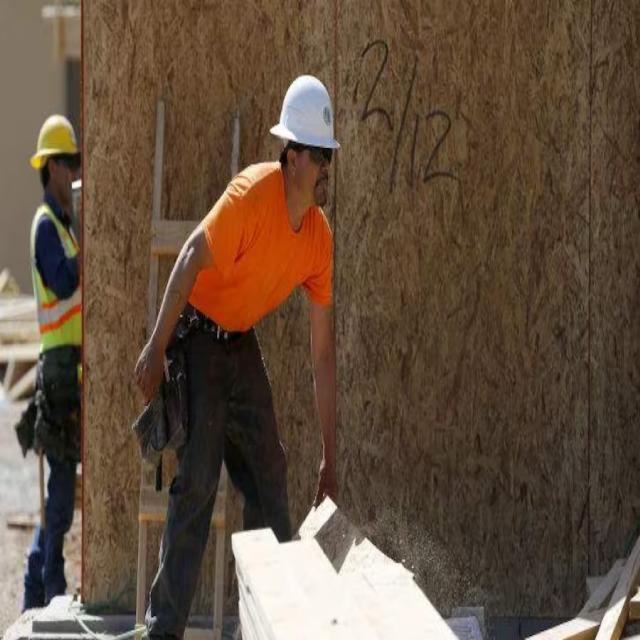Hard Hat: (268, 74, 347, 159), (22, 106, 82, 176)
Reflective Vest: (25, 191, 94, 355)
Safety Glasses: (278, 139, 338, 168)
